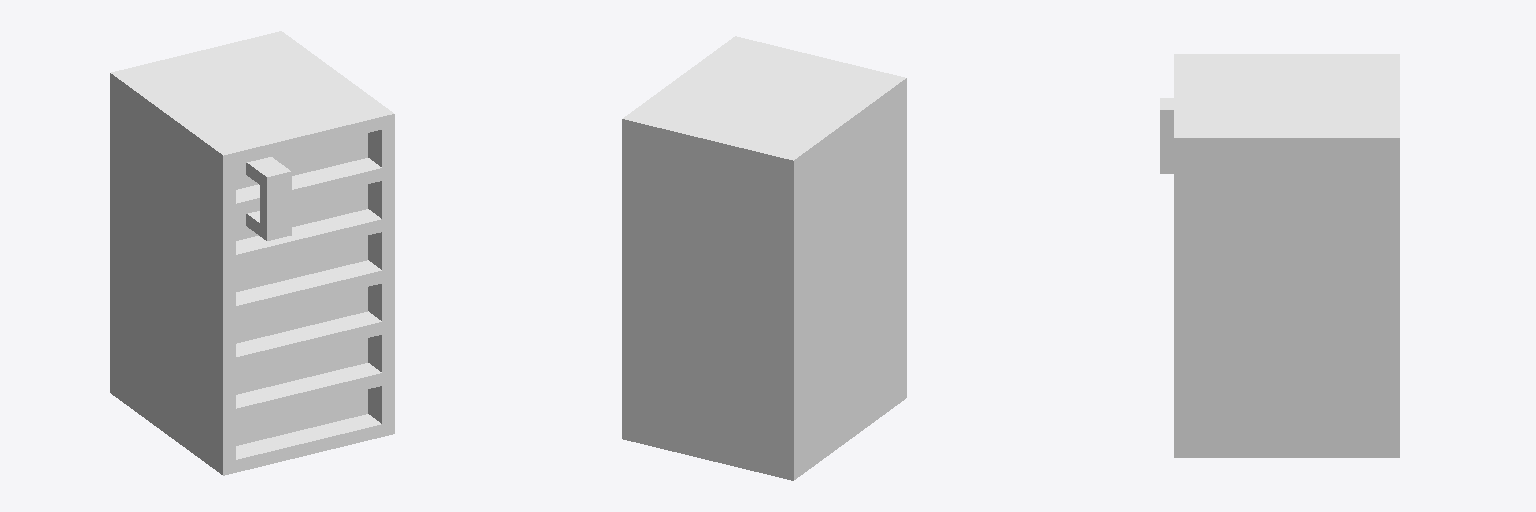
The model's file is misc:server-3.obj.
3 views of the same model, side by side, from view 1: azimuth 30°, elevation 25°; view 2: azimuth 150°, elevation 25°; view 3: azimuth 270°, elevation 25° (orthographic).
Parts seen in each view (by area): view 1: misc:server-3; view 2: misc:server-3; view 3: misc:server-3.
Part boxes in pixels (x1,y1,x2,y2): misc:server-3: (110,31,394,475); misc:server-3: (622,36,906,480); misc:server-3: (1160,54,1399,457).
Bounding box in the file's own units: 14 × 25 × 17.